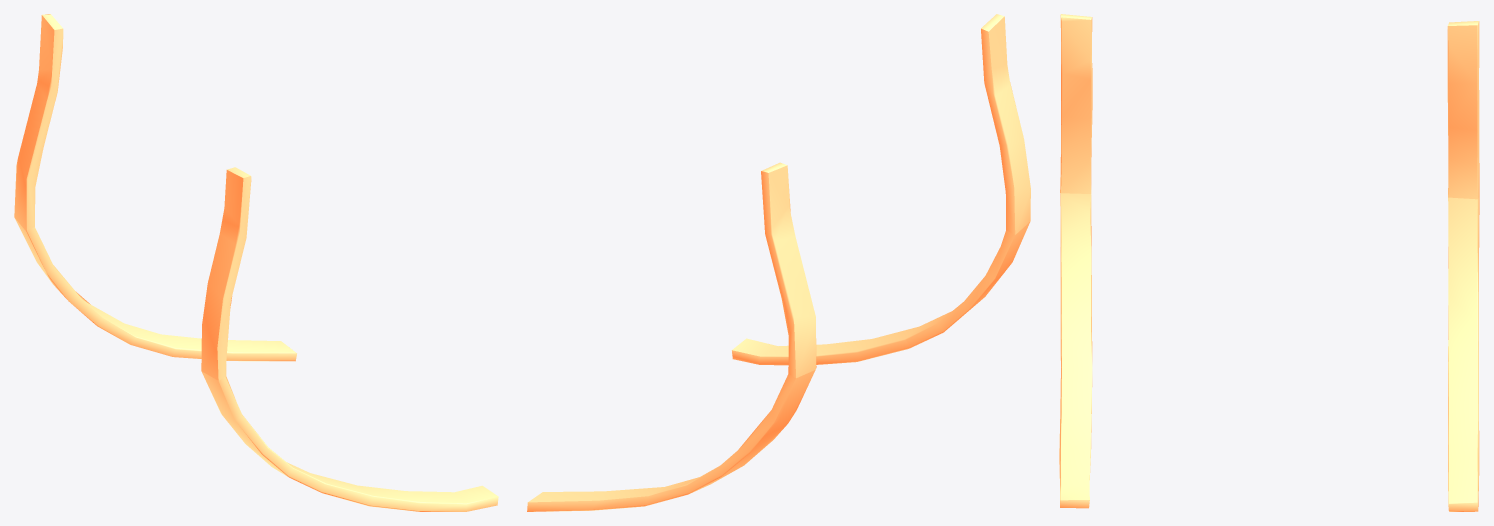
File: SM_Trim_BraceFront02.fbx
The picture shows the model from 3 angles, left to right: view 1: azimuth 30°, elevation 25°; view 2: azimuth 150°, elevation 25°; view 3: azimuth 270°, elevation 25°; orthographic projection. The views are drawn at different scales.
Parts seen in each view (by area): view 1: SM_Trim_BraceFront02_LOD0; view 2: SM_Trim_BraceFront02_LOD0; view 3: SM_Trim_BraceFront02_LOD0.
Part boxes in pixels (<box>): SM_Trim_BraceFront02_LOD0: <box>14,14,498,511</box>; SM_Trim_BraceFront02_LOD0: <box>527,14,1030,511</box>; SM_Trim_BraceFront02_LOD0: <box>1059,14,1479,511</box>.
Size of the model in its own units: 621 by 835 by 831.
